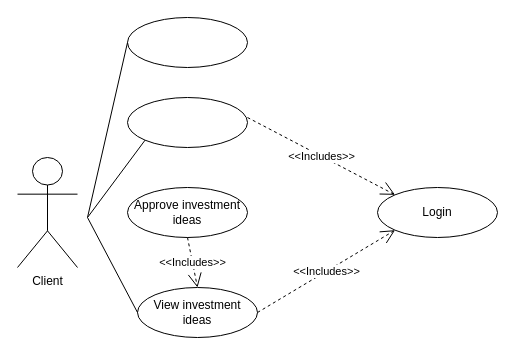
The diagram is 515 pixels wide and 355 high, and some of its shapes have lost their labels. Here are the shapes that lost their labels. From the top down, the centre of each, then its label:
the point at 187,42: Create user account
the point at 187,122: Set account preferences
